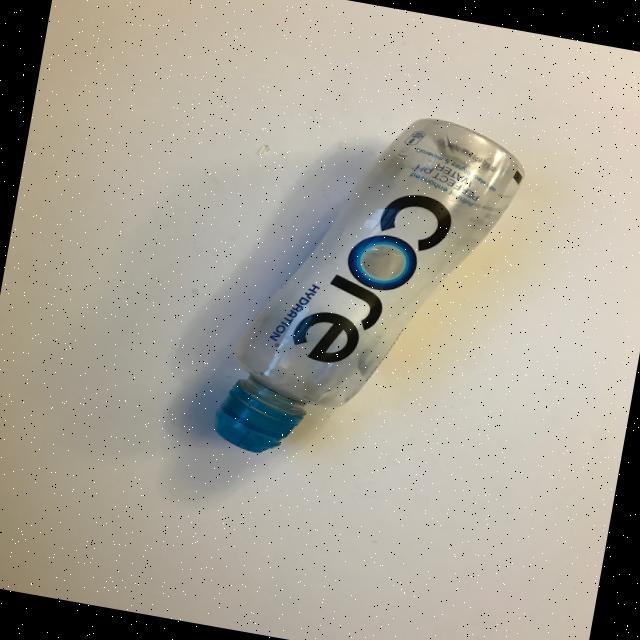plastic: (208, 87, 532, 490)
